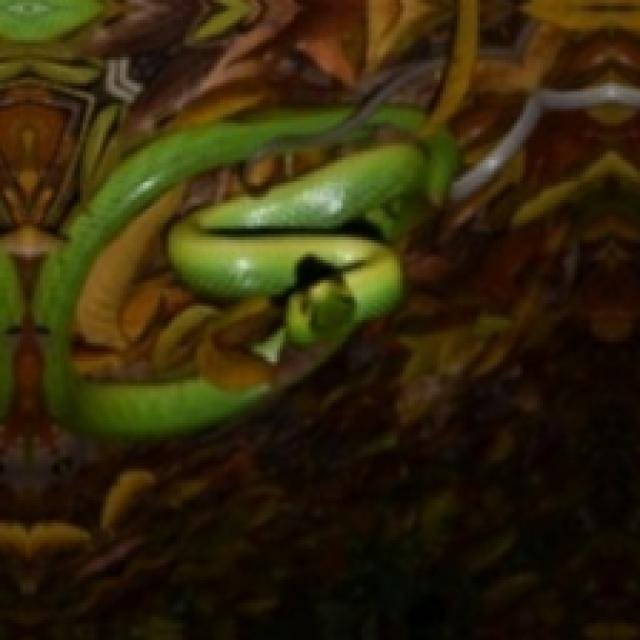red-tailed green ratsnake: (37, 106, 451, 434)
